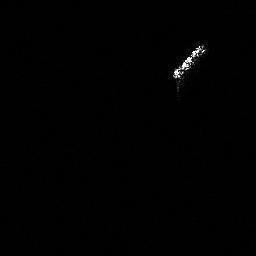ship: (165, 37, 213, 87)
